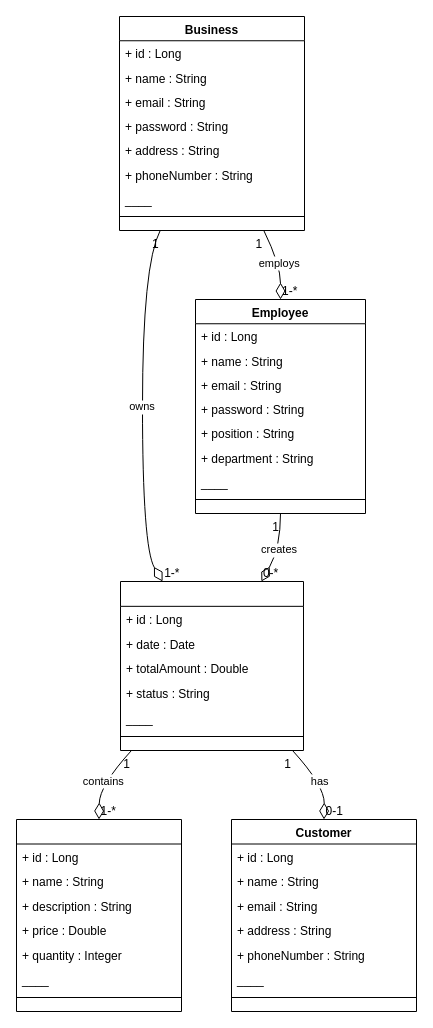
Image size: 433x1028. Some labels were removed from this diagram. Here are the shapes that lost their labels. From the top down, the box of each, then its label:
(120, 580, 304, 750): Order
(16, 818, 182, 1012): Product
